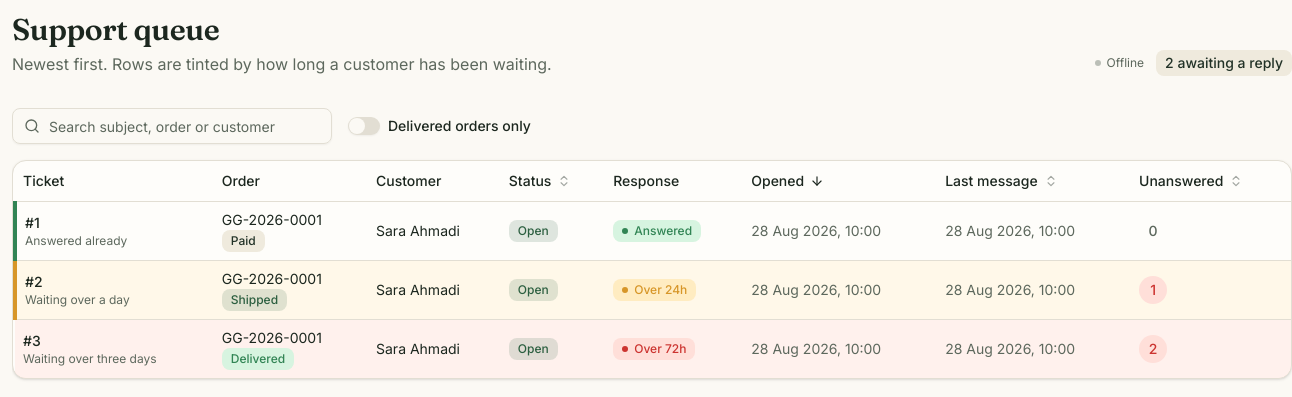
Test case: support queue › narrows to delivered orders when the toggle is switched on
Expected: the text "Answered already" is shown, [25,232,127,248]
Click the switch named "delivered orders only". click: (364, 126)
box: [348,117,380,135]
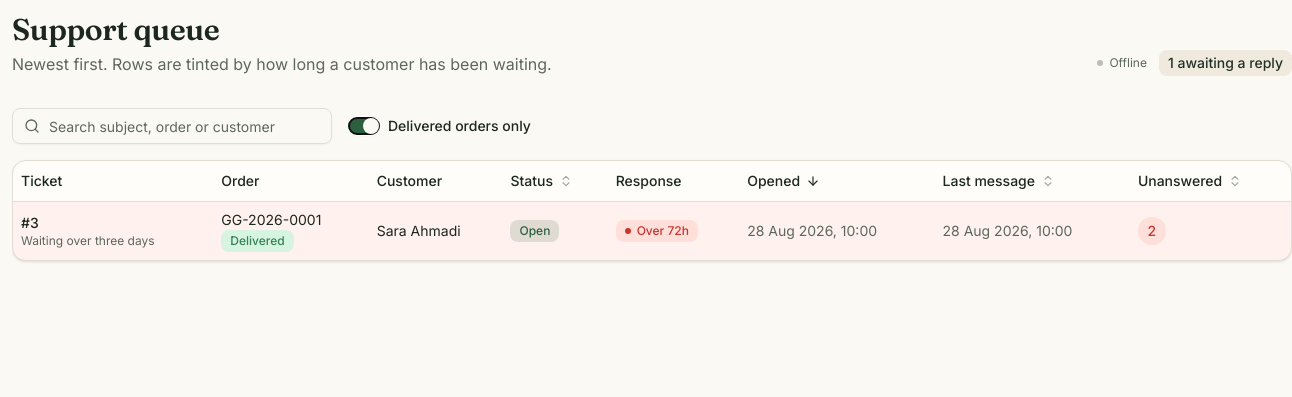
Expected: the text "Waiting over three days" is shown, [21,232,155,248]
Expected: the text "Answered already" is gone
